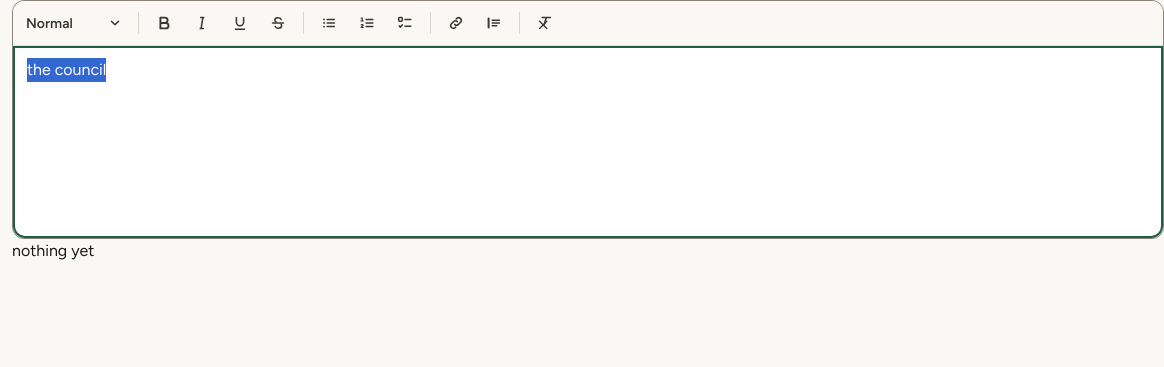
a link › Ctrl+K asks for its address: refused if it goes nowhere a note links to, made from what is chosen otherwise
Press k in the field named "Note", box [13,46,1163,238]
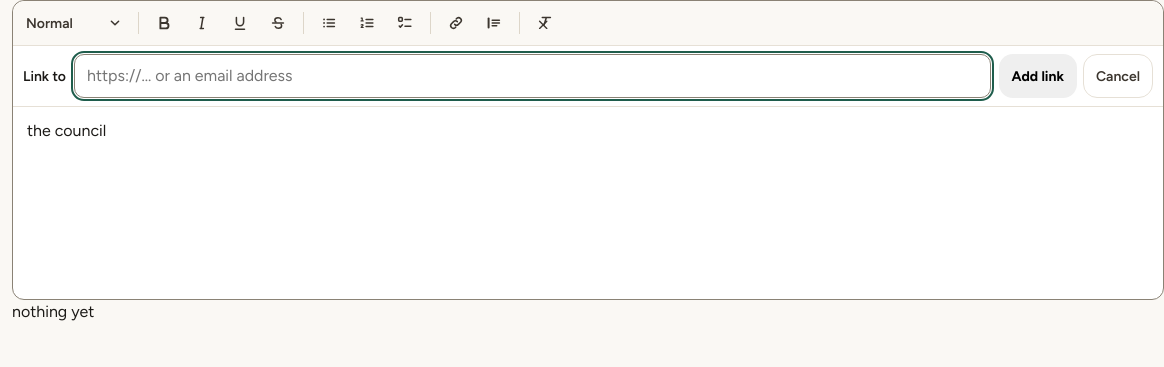
Type "javascript:alert(1)" into the field labelled "Link to".
click(532, 76); type("javascript:alert(1)")  # box [74,54,991,98]
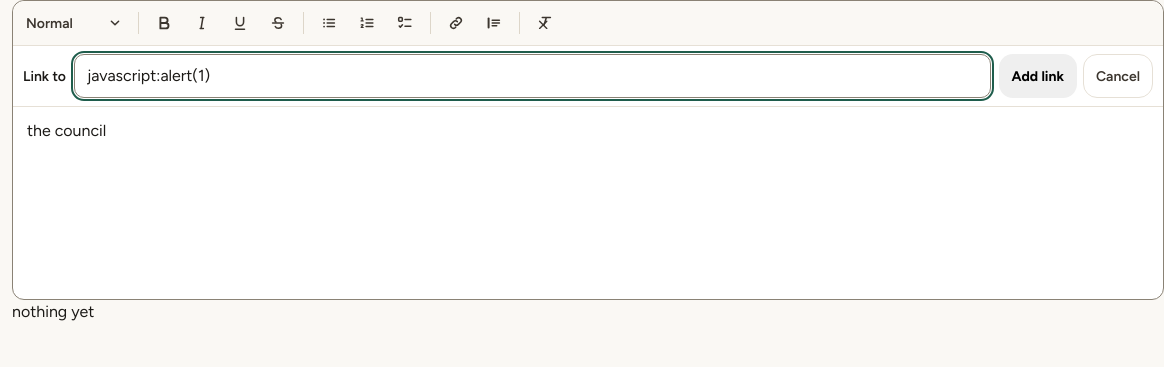
Click the button "Add link".
click(1038, 76)  # box [999,54,1077,98]
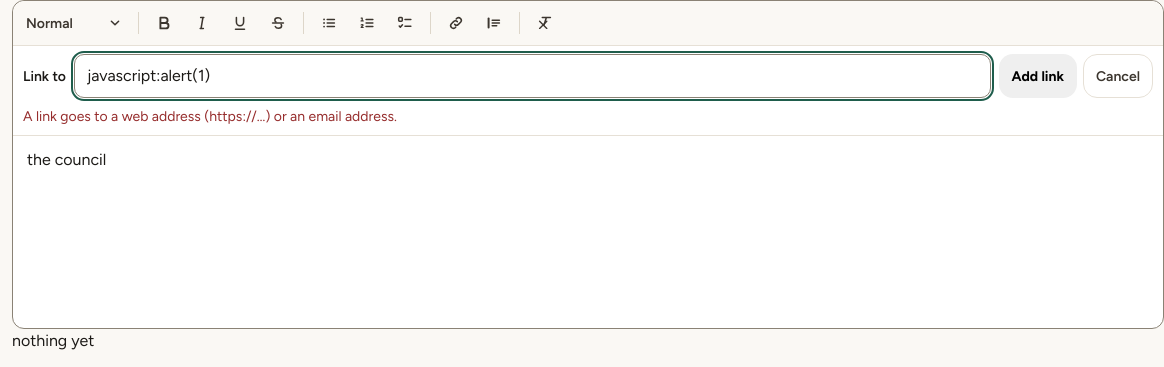
Result: the message shows "web address" at [23,108,397,125]
Replace the text in the field labelled "Link to" with "council.example/bins" at (532, 76), box [74,54,991,98]
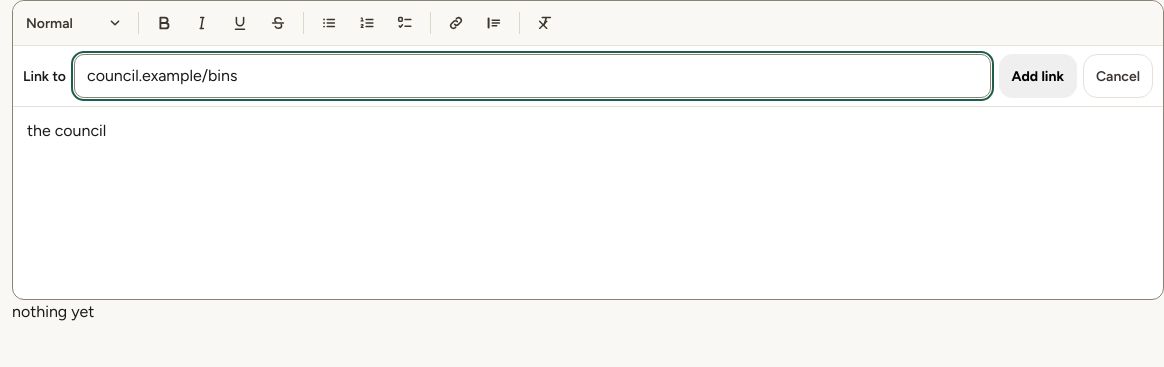
Click the button "Add link".
click(1038, 76)  # box [999,54,1077,98]
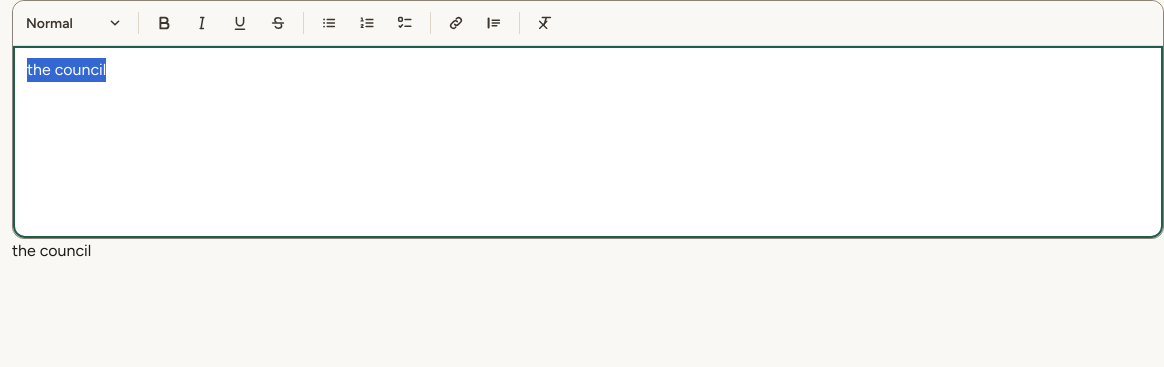
Result: the label "Link" is gone
